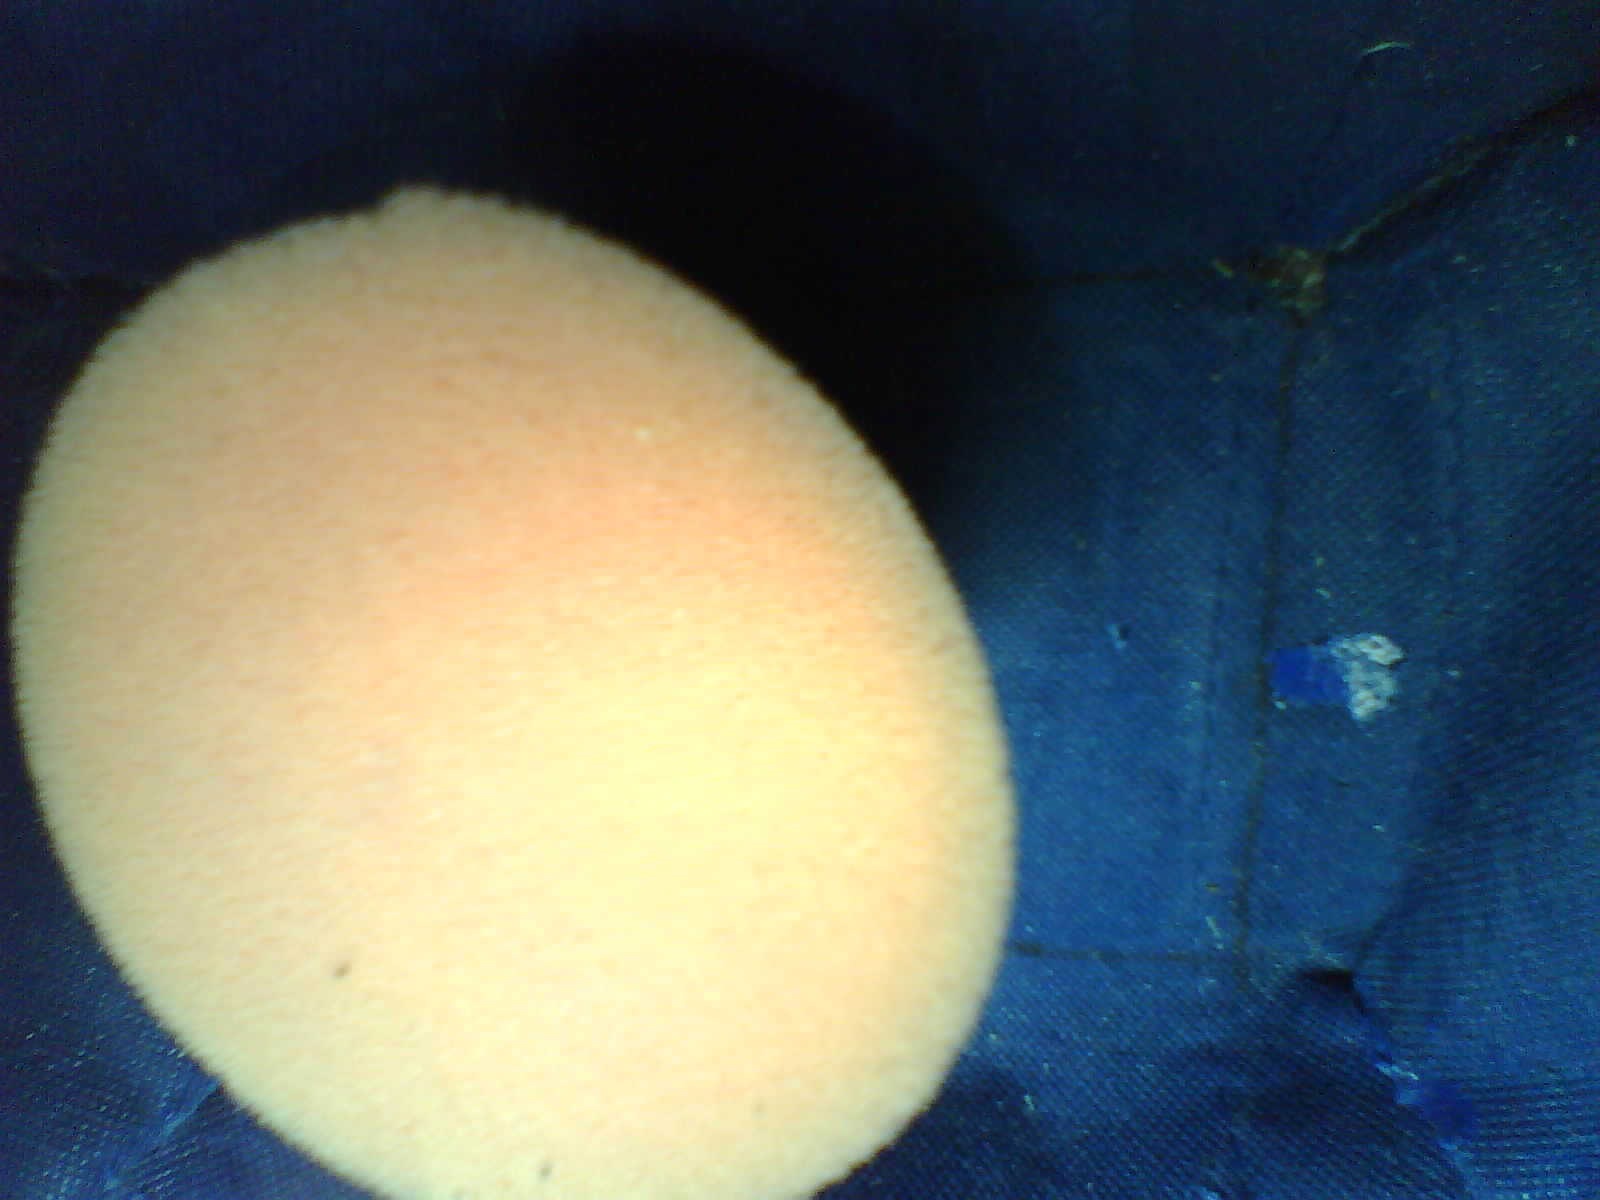cylinder-soft: (8, 170, 1053, 1200)
